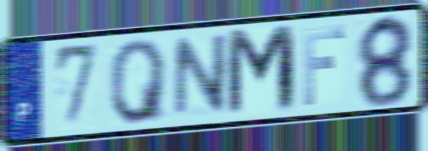7: (52, 41, 102, 132)
8: (354, 11, 416, 110)
F: (300, 24, 348, 109)
M: (224, 22, 300, 121)
N: (171, 30, 232, 122)
Q: (107, 36, 172, 127)
